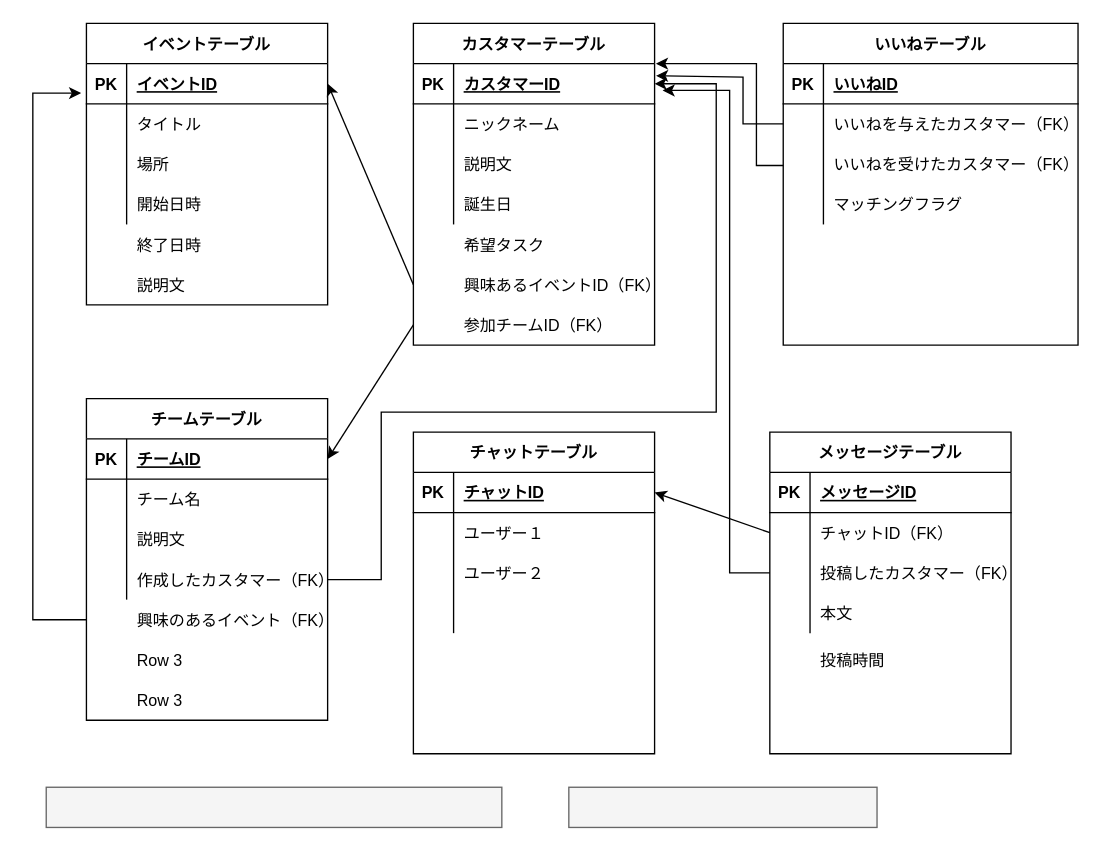
This 1101x851 diagram has some shape labels left out. Each missing label, with the centre of its shape:
"※一旦ユーザー同士のチャット機能のみ" belongs at point (722, 806).
"いいねを受けたら通知が来て、返すかスルーするかを選ぶ" belongs at point (273, 806).
